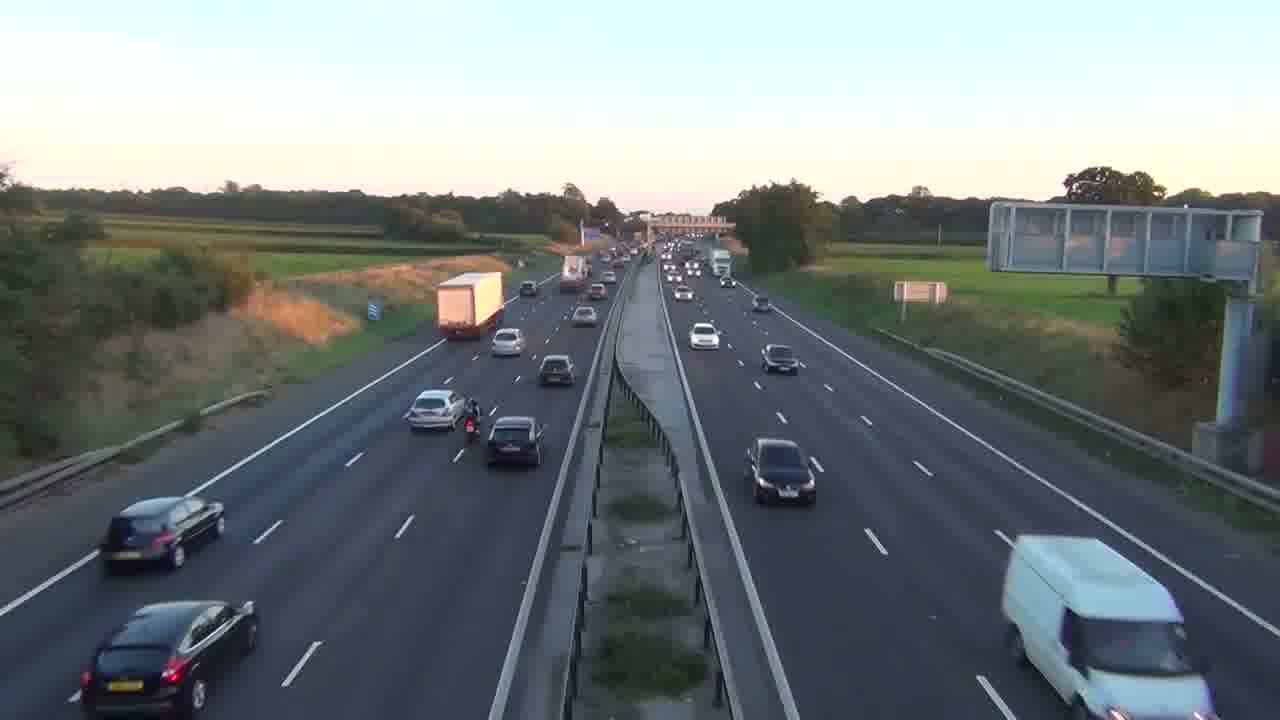car: (72, 598, 259, 715), (98, 494, 225, 573), (744, 437, 825, 505), (485, 415, 547, 468), (403, 388, 460, 431), (760, 343, 806, 374), (537, 353, 576, 386), (491, 328, 524, 358), (689, 321, 721, 350), (568, 304, 597, 328)
truck: (1000, 532, 1220, 719), (434, 270, 505, 341)
